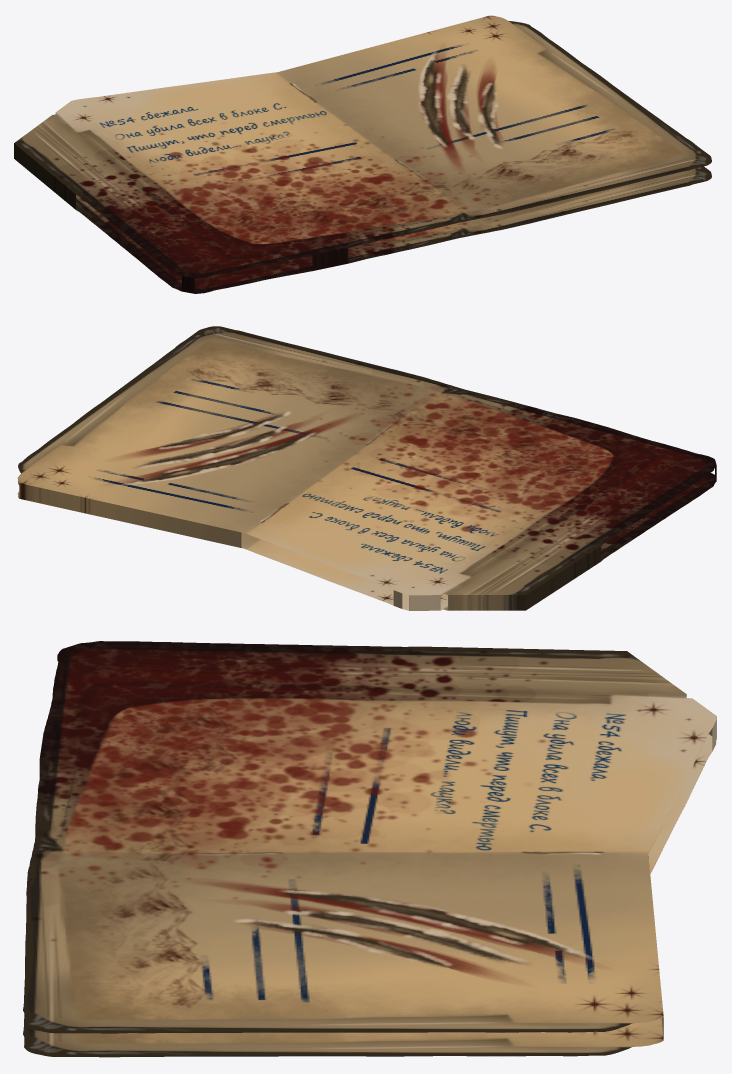
The model's file is notebook_5_lvl.fbx.
3 renders of one model, top to bottom at view 1: azimuth 30°, elevation 25°; view 2: azimuth 150°, elevation 25°; view 3: azimuth 270°, elevation 25°, orthographic. The views are drawn at different scales.
Visible parts, largest first — view 1: notebook_5_lvl; view 2: notebook_5_lvl; view 3: notebook_5_lvl.
Boxes of the visible parts, x1,y1,x2,y2 form: notebook_5_lvl: [14, 15, 711, 293]; notebook_5_lvl: [17, 326, 716, 610]; notebook_5_lvl: [23, 641, 716, 1057].
Size of the model in its own units: 65.25 by 1.82 by 48.96.
